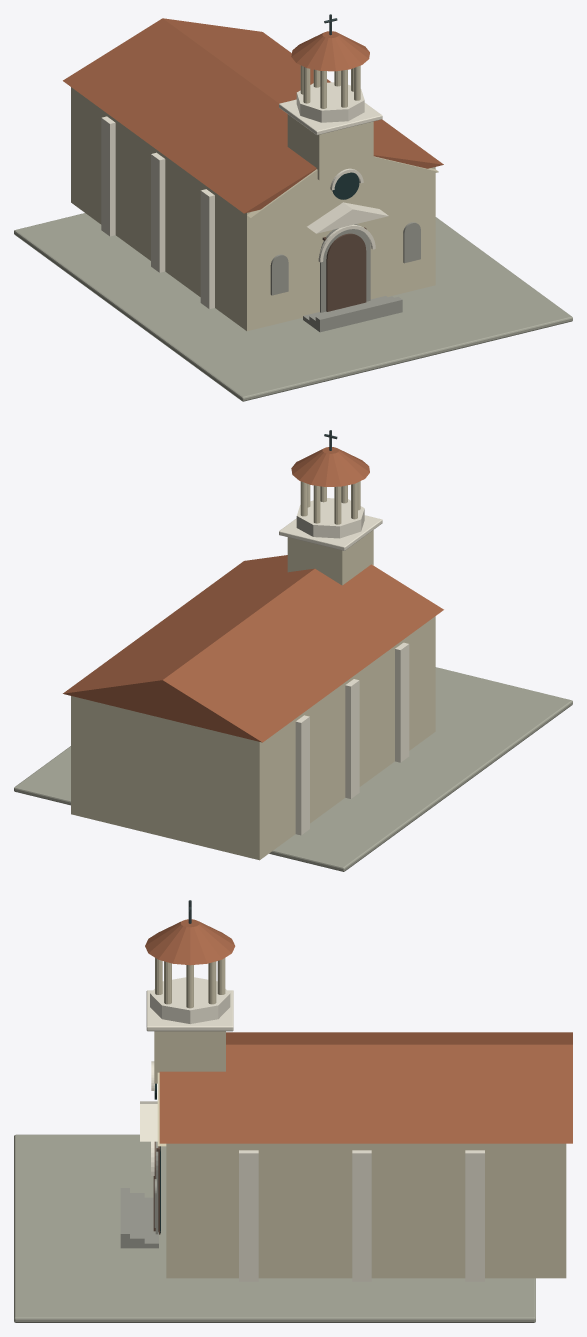
The model's file is gms-48.glb.
3 views of the same model, one above another, from view 1: azimuth 30°, elevation 25°; view 2: azimuth 150°, elevation 25°; view 3: azimuth 270°, elevation 25° (orthographic). The views are drawn at different scales.
Parts seen in each view (by area): view 1: Long single nave, Context plinth, Low red double-pitch nave roof, Entrance arch trim, Arched entrance reveal, Central church timber entrance jamb, Central church timber entrance recess; view 2: Long single nave, Low red double-pitch nave roof, Context plinth, Entrance arch trim; view 3: Long single nave, Low red double-pitch nave roof, Context plinth, Entrance arch trim, Arched entrance reveal.
Part boxes in pixels (x1=…): Long single nave: x1=71, y1=65, x2=438, y2=331; Context plinth: x1=14, y1=213, x2=572, y2=401; Low red double-pitch nave roof: x1=63, y1=18, x2=443, y2=213; Entrance arch trim: x1=101, y1=82, x2=388, y2=309; Arched entrance reveal: x1=270, y1=222, x2=420, y2=332; Central church timber entrance jamb: x1=322, y1=227, x2=366, y2=311; Central church timber entrance recess: x1=332, y1=172, x2=359, y2=199; Long single nave: x1=71, y1=481, x2=435, y2=860; Low red double-pitch nave roof: x1=63, y1=447, x2=443, y2=742; Context plinth: x1=14, y1=667, x2=572, y2=871; Entrance arch trim: x1=279, y1=498, x2=409, y2=835; Long single nave: x1=154, y1=958, x2=566, y2=1278; Low red double-pitch nave roof: x1=145, y1=919, x2=572, y2=1143; Context plinth: x1=14, y1=1134, x2=535, y2=1322; Entrance arch trim: x1=140, y1=977, x2=484, y2=1281; Arched entrance reveal: x1=120, y1=1141, x2=158, y2=1248.
Bounding box in the file's own units: 10 × 8.39 × 12.85.
